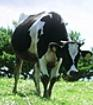cow: (12, 12, 84, 98)
